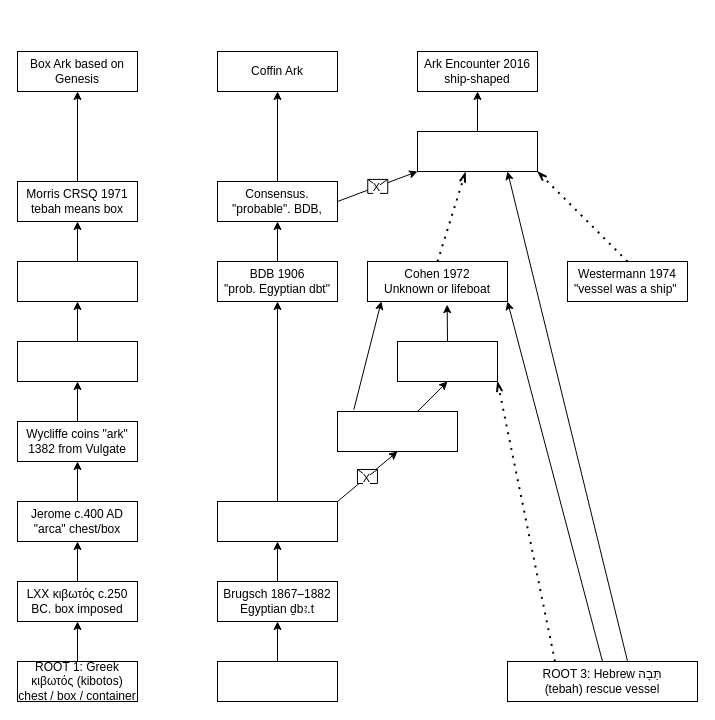
This 715x720 diagram has some shape labels left out. Here are the shapes that lost their labels. From the top down, the centre of each, then its label:
point (477, 151): HALOT 1994 Unknown or ship
point (77, 281): Scholarly consensus
point (77, 361): Tyndale 1530 → KJV 1611 Stuck with "ark"
point (447, 361): Lambdin 1953 breaks ḏbꜣ.t link
point (397, 431): Erman 1926 drops Brugsch ḏbꜣ.t
point (277, 521): Erman 1892 accepts Brugsch ḏbꜣ.t
point (277, 681): ROOT 2: Egyptian ḏbꜣ.t coffin
